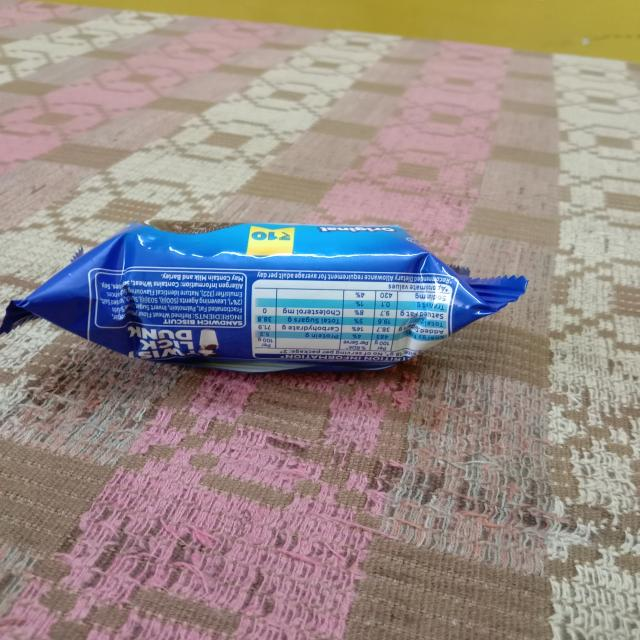oreo biscuit: (4, 214, 532, 374)
